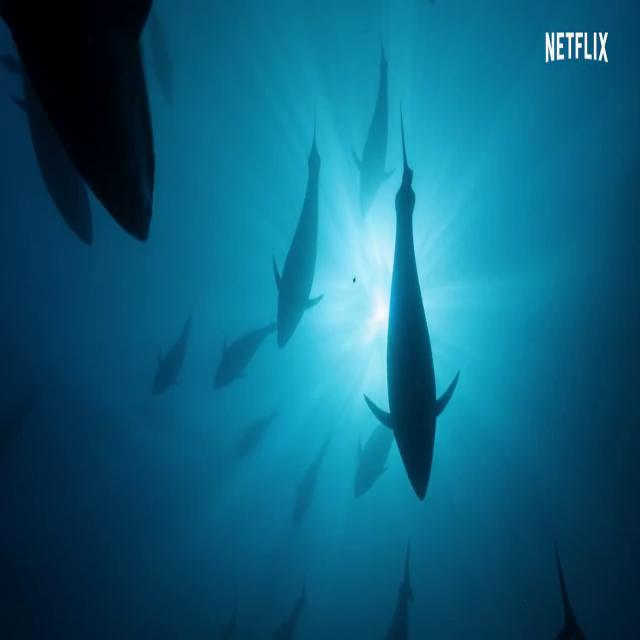fish: (369, 104, 464, 509), (272, 121, 329, 342), (212, 312, 282, 406)
